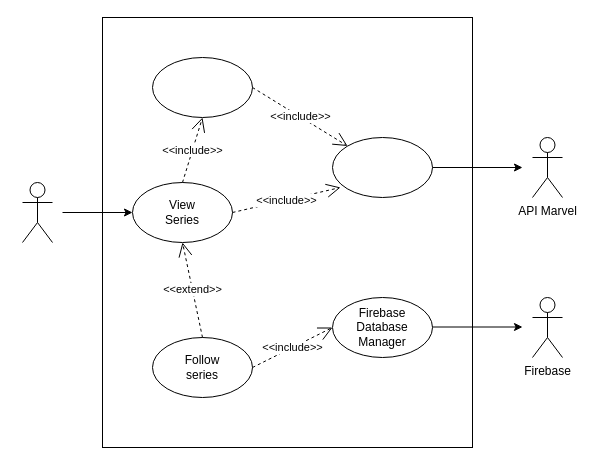
Some shapes in this 594 by 465 pixel diagram are drawn without their labels. The centre of each missing label's shape, as x and y in pixels:
"Logged User" belongs at pixel 37 212.
"Request API Component" belongs at pixel 382 167.
"View Issues of Series" belongs at pixel 202 87.
